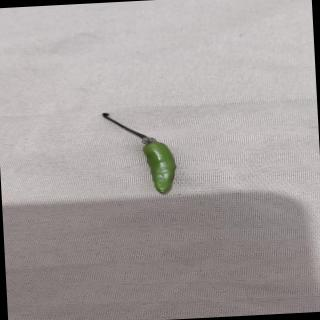Cabai Hijau: (98, 104, 191, 202)
